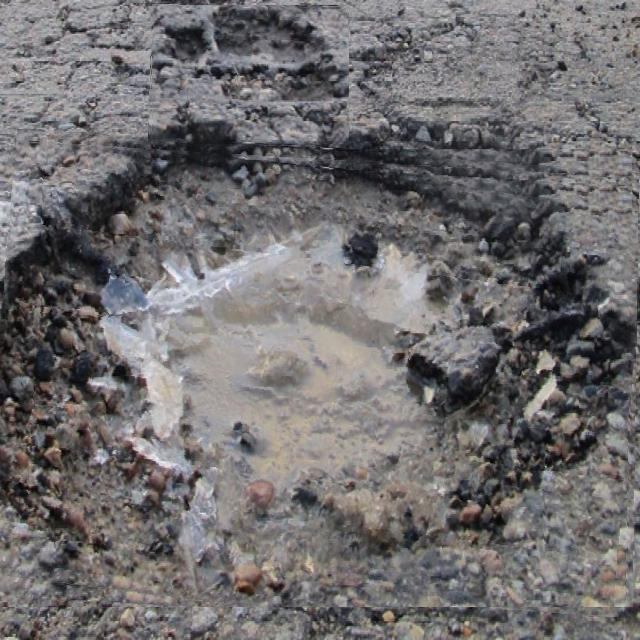Pothole: (0, 140, 639, 607), (149, 5, 349, 147)
